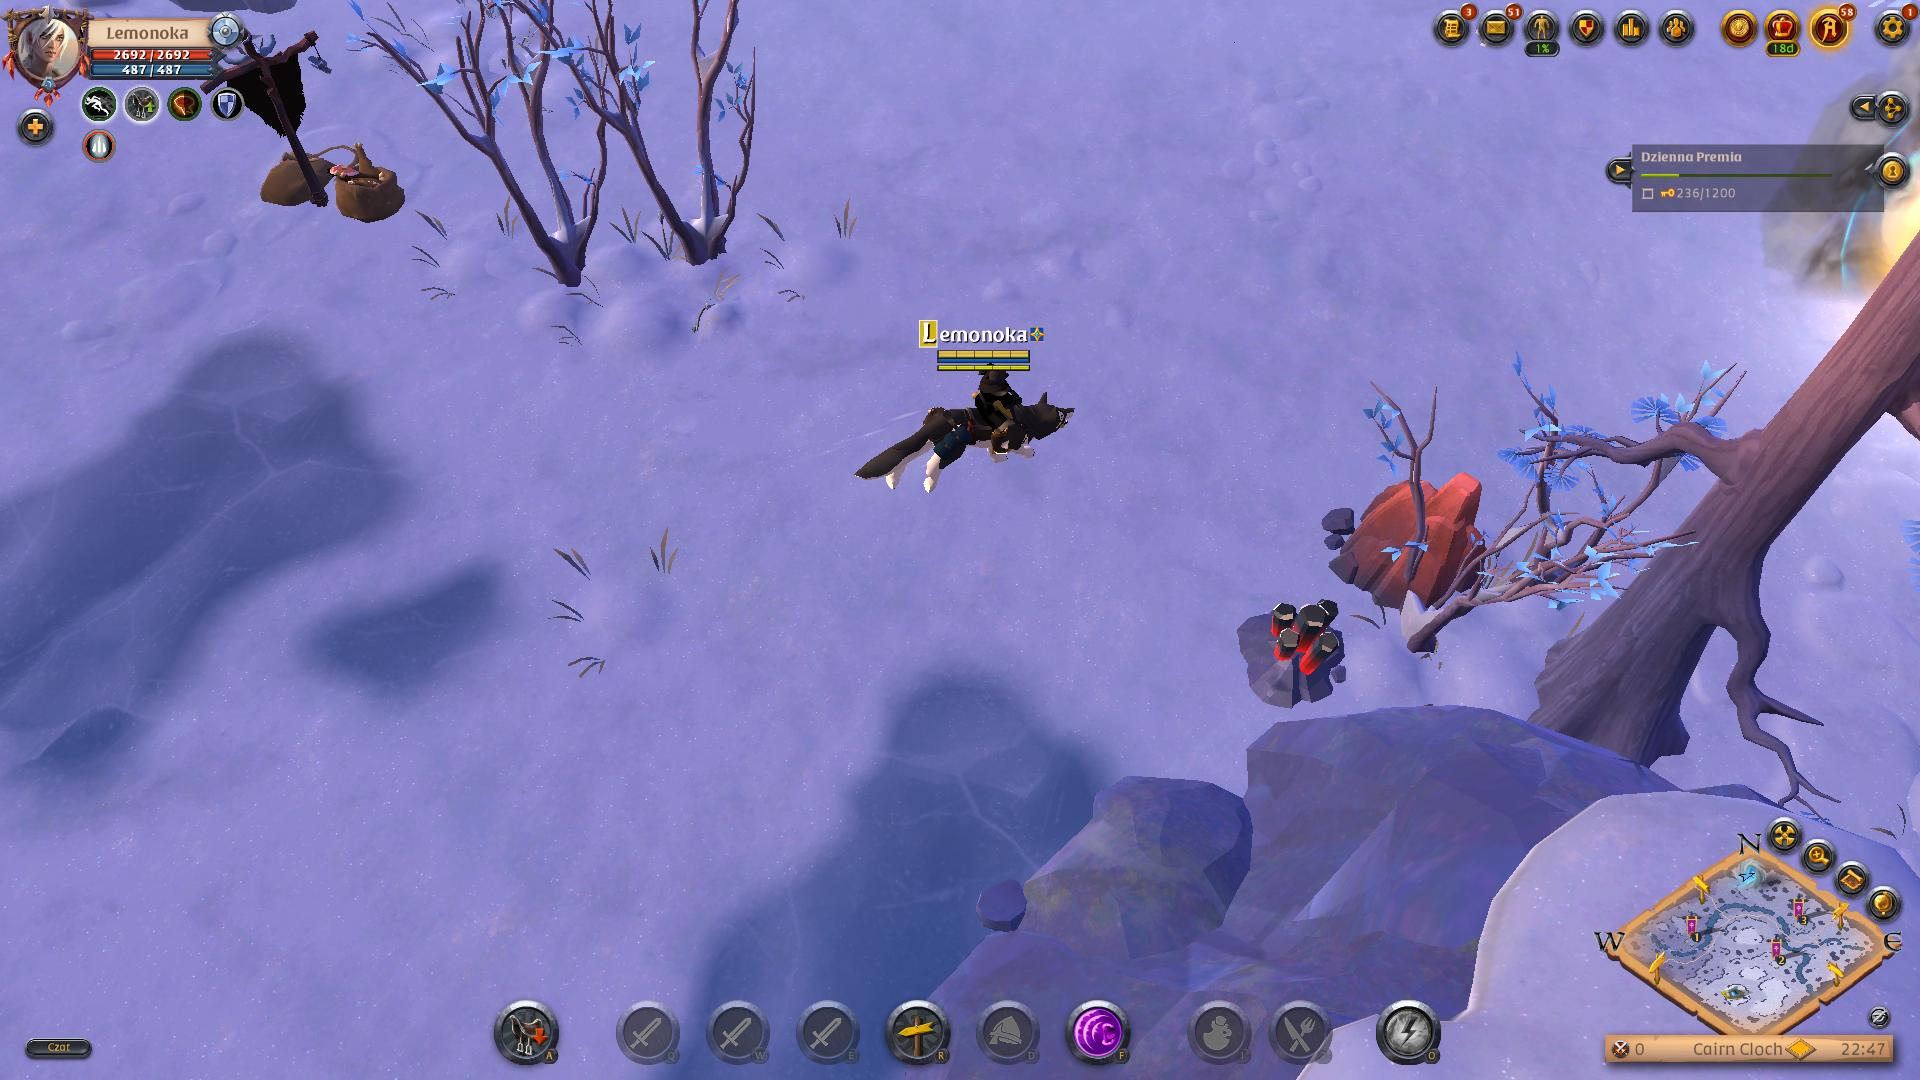ore tier 5: (1232, 589, 1340, 707)
rock tier 5: (1327, 476, 1490, 618)
